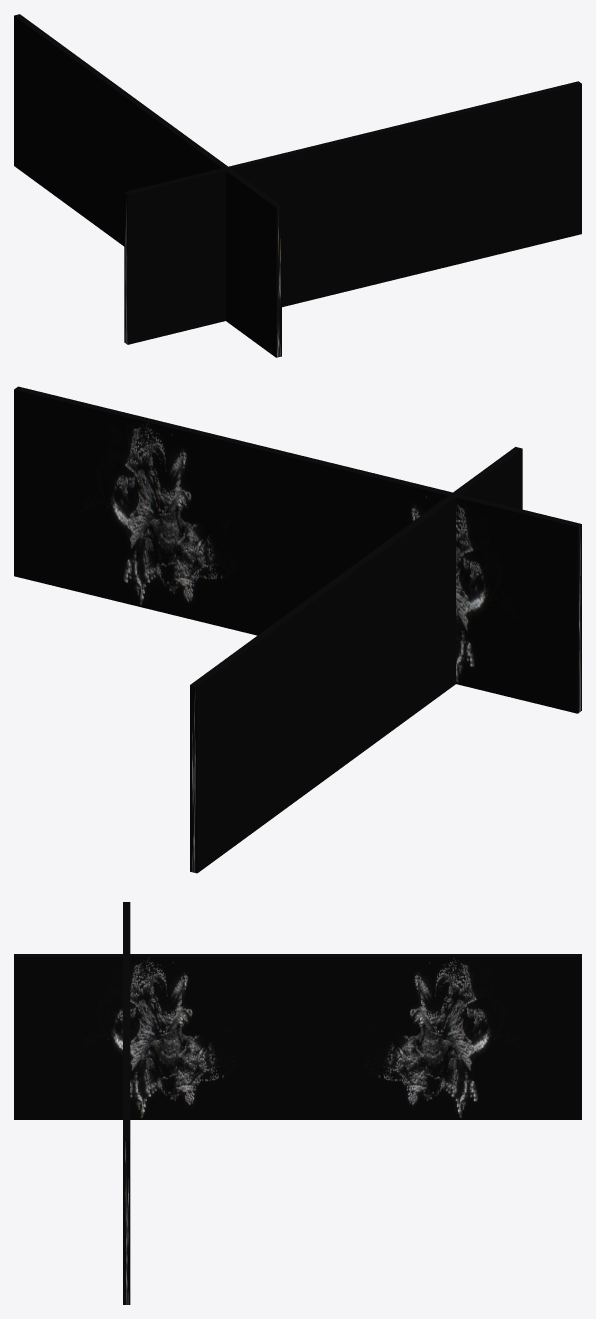
3 renders of one model, top to bottom at view 1: azimuth 30°, elevation 25°; view 2: azimuth 150°, elevation 25°; view 3: azimuth 270°, elevation 25°, orthographic. The views are drawn at different scales.
Visible parts, largest first — view 1: Cube.001, Cube; view 2: Cube.001, Cube; view 3: Cube, Cube.001.
Part boxes in pixels (x1,y1,x2,y2): Cube.001: (124, 81, 581, 344); Cube: (14, 14, 281, 357); Cube.001: (14, 386, 581, 713); Cube: (190, 447, 522, 873); Cube: (14, 954, 581, 1119); Cube.001: (123, 902, 130, 1304).
Size of the model in its own units: 15.36 by 4.86 by 15.36.
1 material, 1 textured.
